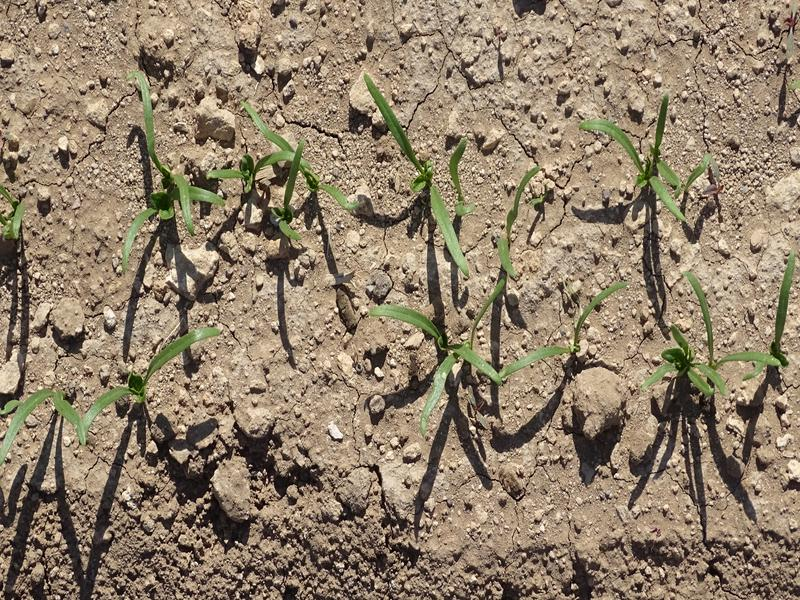Espinaca: (119, 69, 364, 247), (362, 277, 628, 427), (1, 318, 225, 453), (366, 74, 477, 275), (647, 257, 795, 399), (582, 97, 719, 220)
